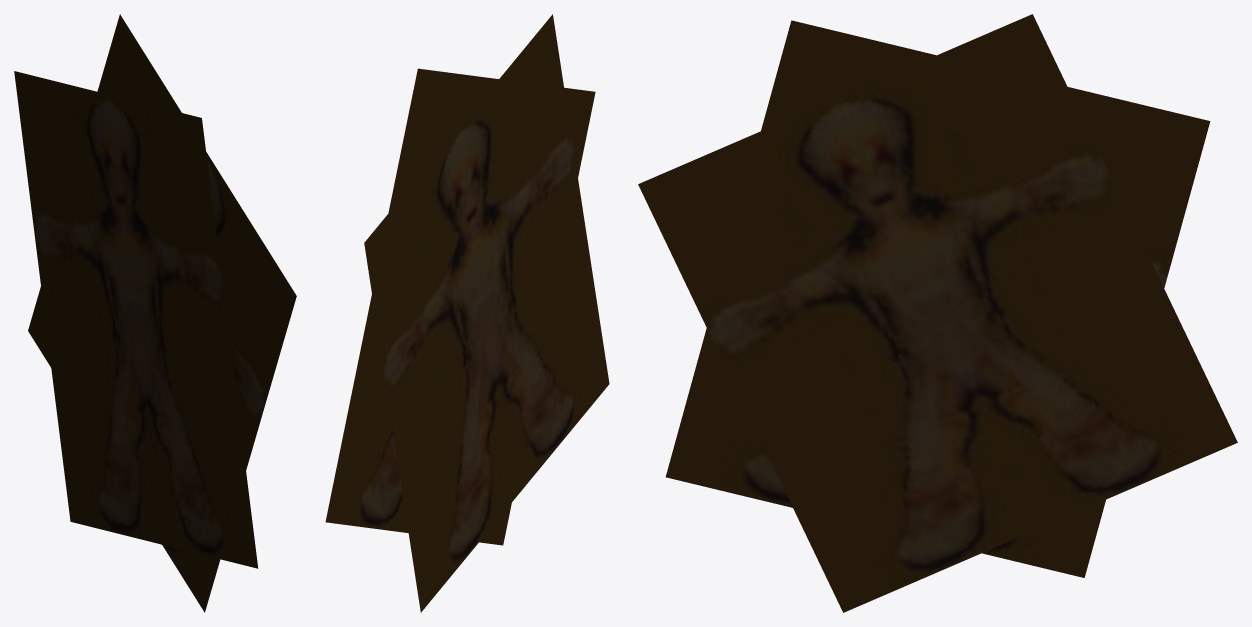
The model's file is sign1_shanty_a_icon_voodoo.fbx.
3 renders of one model, left to right at view 1: azimuth 30°, elevation 25°; view 2: azimuth 150°, elevation 25°; view 3: azimuth 270°, elevation 25°, orthographic. The views are drawn at different scales.
Visible parts, largest first — view 1: icons; view 2: icons; view 3: icons.
Part boxes in pixels (<box>): icons: <box>14,14,296,612</box>; icons: <box>325,14,609,612</box>; icons: <box>638,14,1237,612</box>.
Size of the model in its own units: 16.67 by 326 by 296.
Materials: 1 (1 with a texture image).
